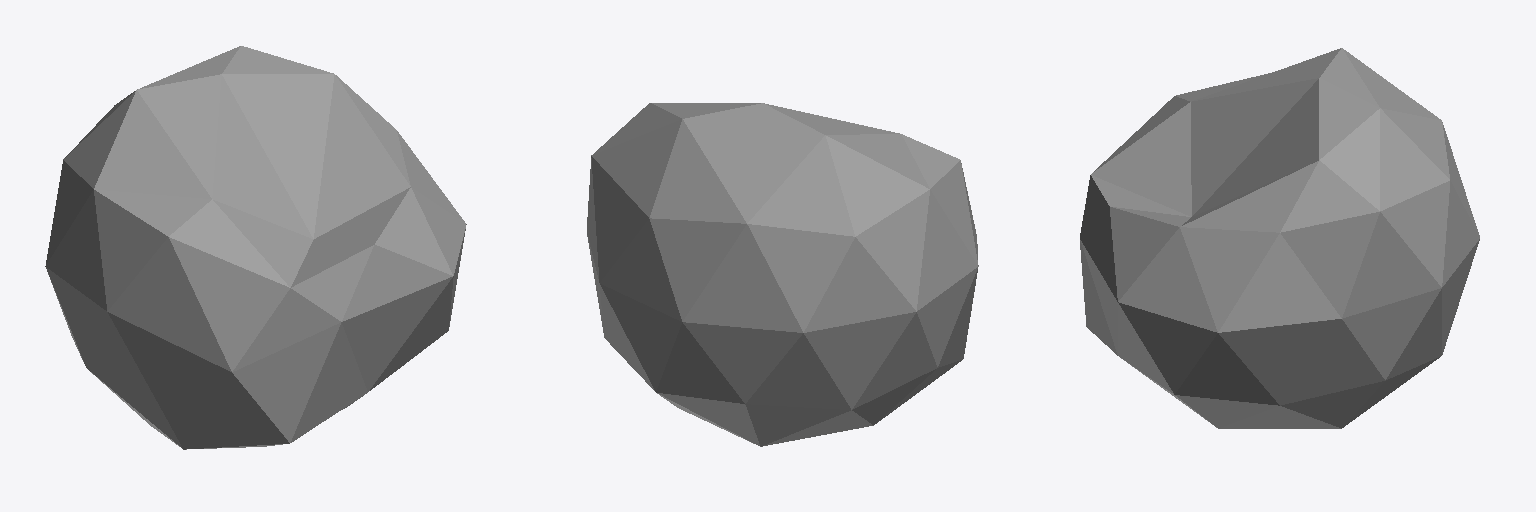
Rendered from asteroid.obj.
3 renders of one model, left to right at view 1: azimuth 30°, elevation 25°; view 2: azimuth 150°, elevation 25°; view 3: azimuth 270°, elevation 25°, orthographic.
Visible parts, largest first — view 1: Cube; view 2: Cube; view 3: Cube.
Boxes of the visible parts, x1,y1,x2,y2 form: Cube: [45, 46, 466, 449]; Cube: [587, 103, 978, 446]; Cube: [1080, 48, 1479, 428].
Size of the model in its own units: 2.07 by 1.88 by 2.